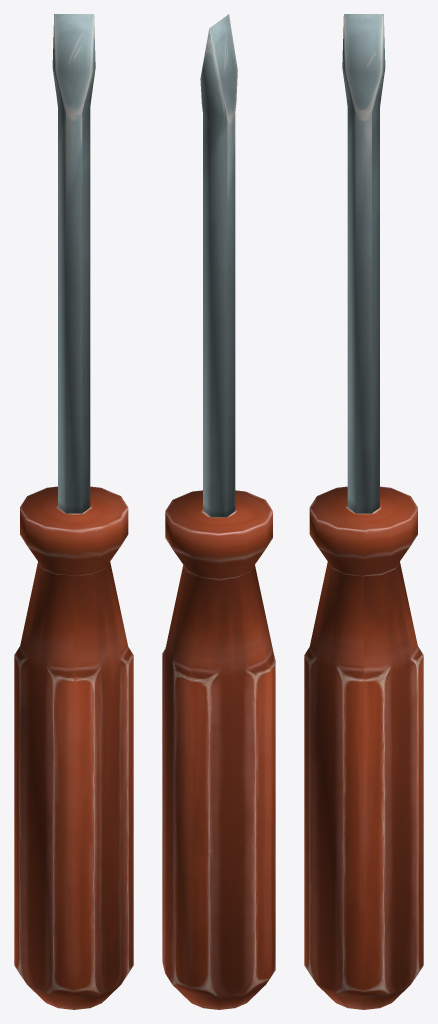
The model's file is screwdriver.FBX.
The picture shows the model from 3 angles, left to right: view 1: azimuth 90°, elevation 25°; view 2: azimuth 150°, elevation 25°; view 3: azimuth 270°, elevation 25°; orthographic projection.
Parts seen in each view (by area): view 1: screwdriver_190412; view 2: screwdriver_190412; view 3: screwdriver_190412.
Boxes of the visible parts, box(x1,y1,x2,y2) form: screwdriver_190412: box(14, 14, 133, 1009); screwdriver_190412: box(162, 14, 275, 1009); screwdriver_190412: box(304, 14, 423, 1009).
Size of the model in its own units: 2.35 by 21.37 by 2.34.
Materials: 1 (1 with a texture image).
